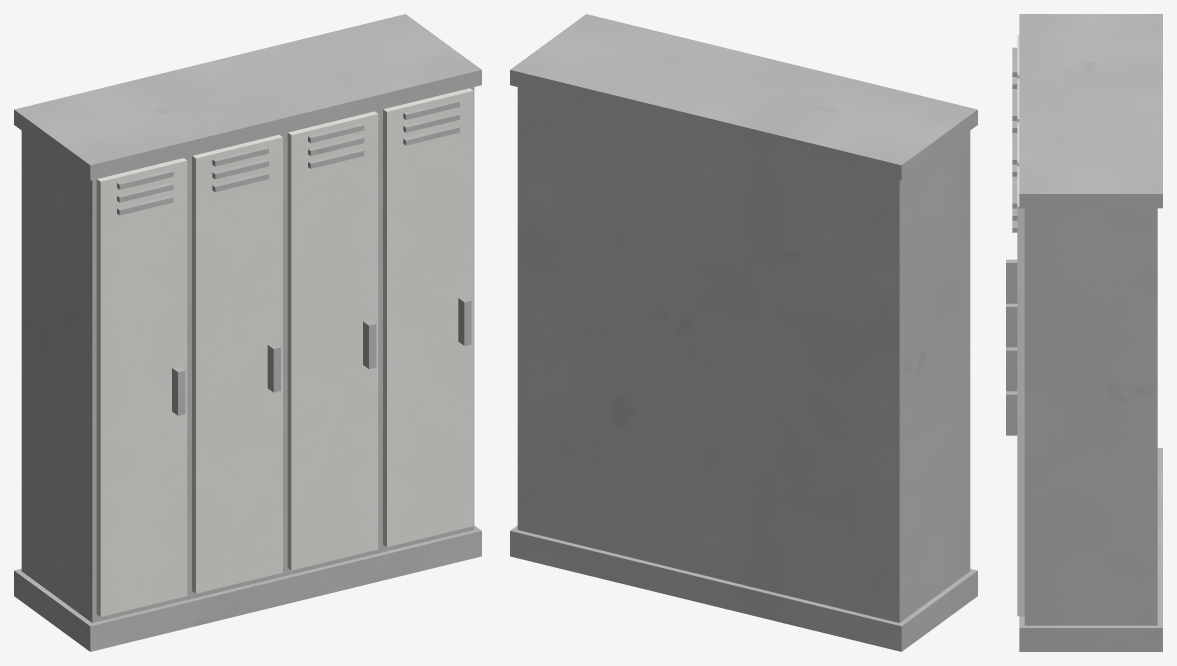
Rendered from locker.gltf.
3 renders of one model, left to right at view 1: azimuth 30°, elevation 25°; view 2: azimuth 150°, elevation 25°; view 3: azimuth 270°, elevation 25°, orthographic. The views are drawn at different scales.
Visible parts, largest first — view 1: jx_locker; view 2: jx_locker; view 3: jx_locker.
Part boxes in pixels (left/top/right/bottom): jx_locker: left=14, top=14, right=481, bottom=651; jx_locker: left=510, top=14, right=977, bottom=651; jx_locker: left=1006, top=14, right=1162, bottom=651.
Size of the model in its own units: 1.6 by 1.9 by 0.5895.
Materials: 2 (2 with a texture image).
